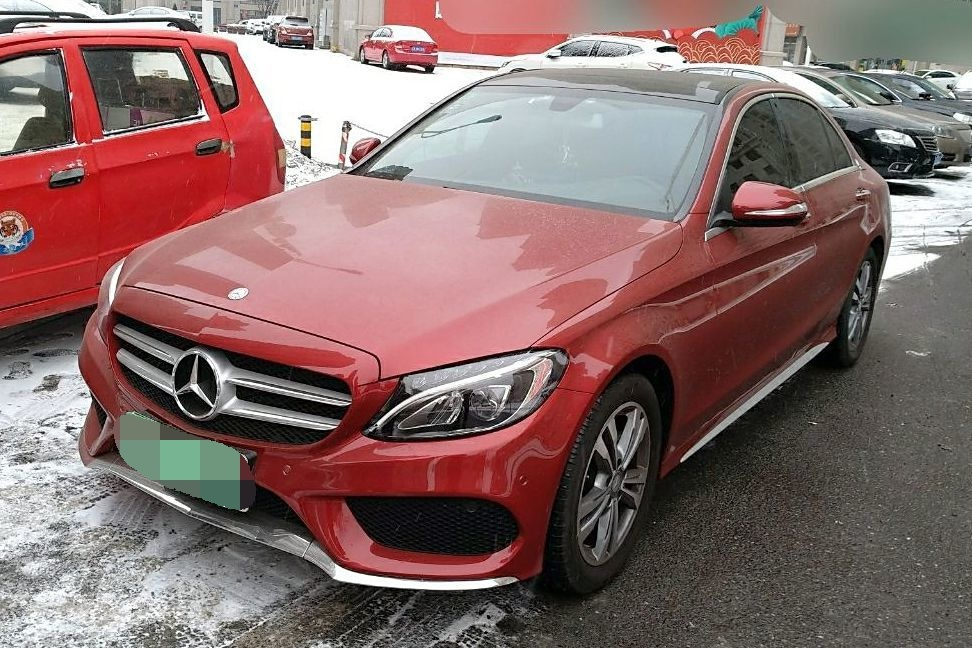family sedan: (93, 57, 895, 587), (3, 25, 292, 311), (349, 16, 444, 77)
